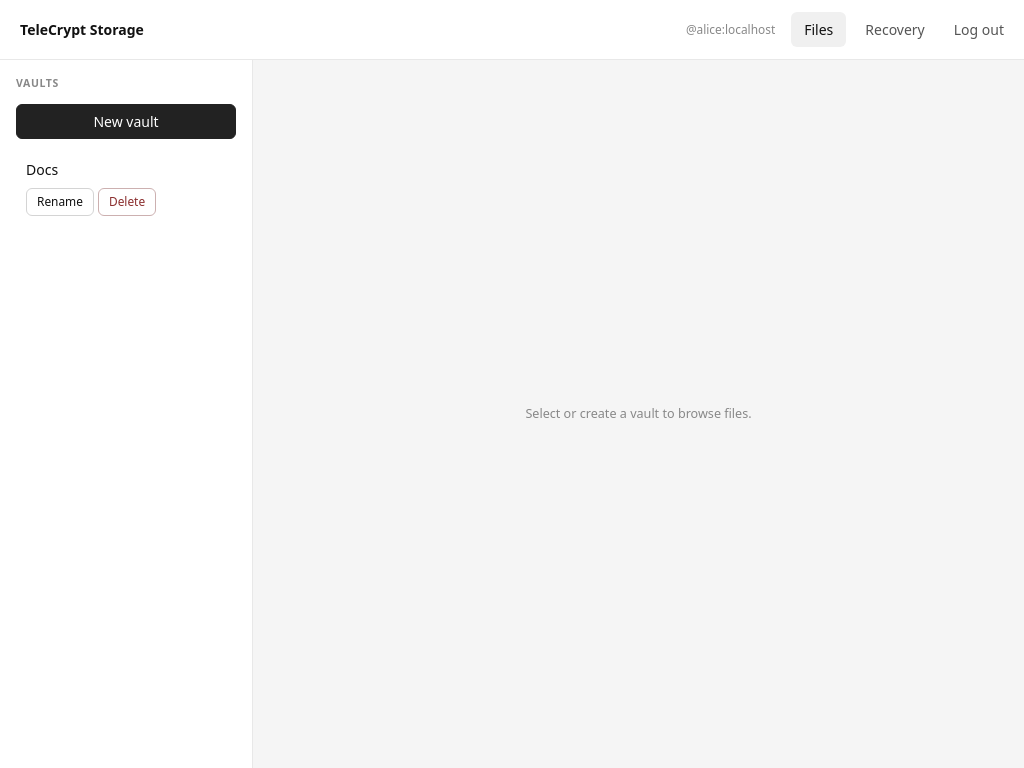
vaults › lists and selects a vault
Check: the text with test id "current-user" reads "@alice:localhost", box [686,21,775,37]
Click the button "Docs". click: (126, 169)
box: [16,151,236,188]
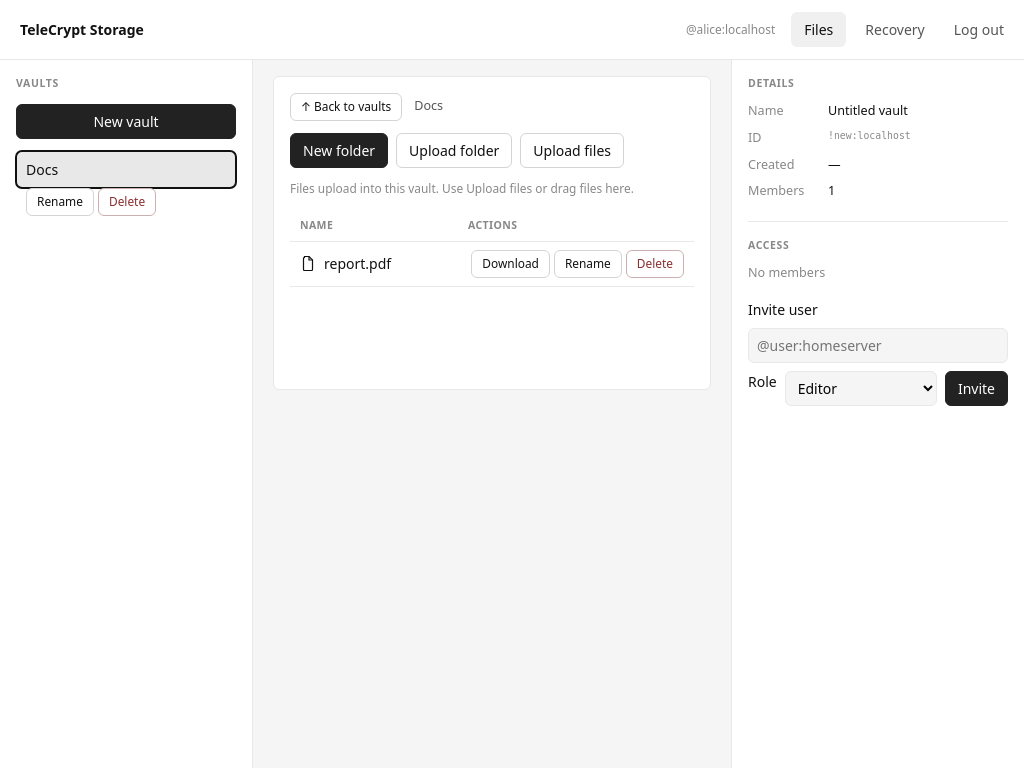
Check: the text "report.pdf" is shown, box [324,253,391,274]
